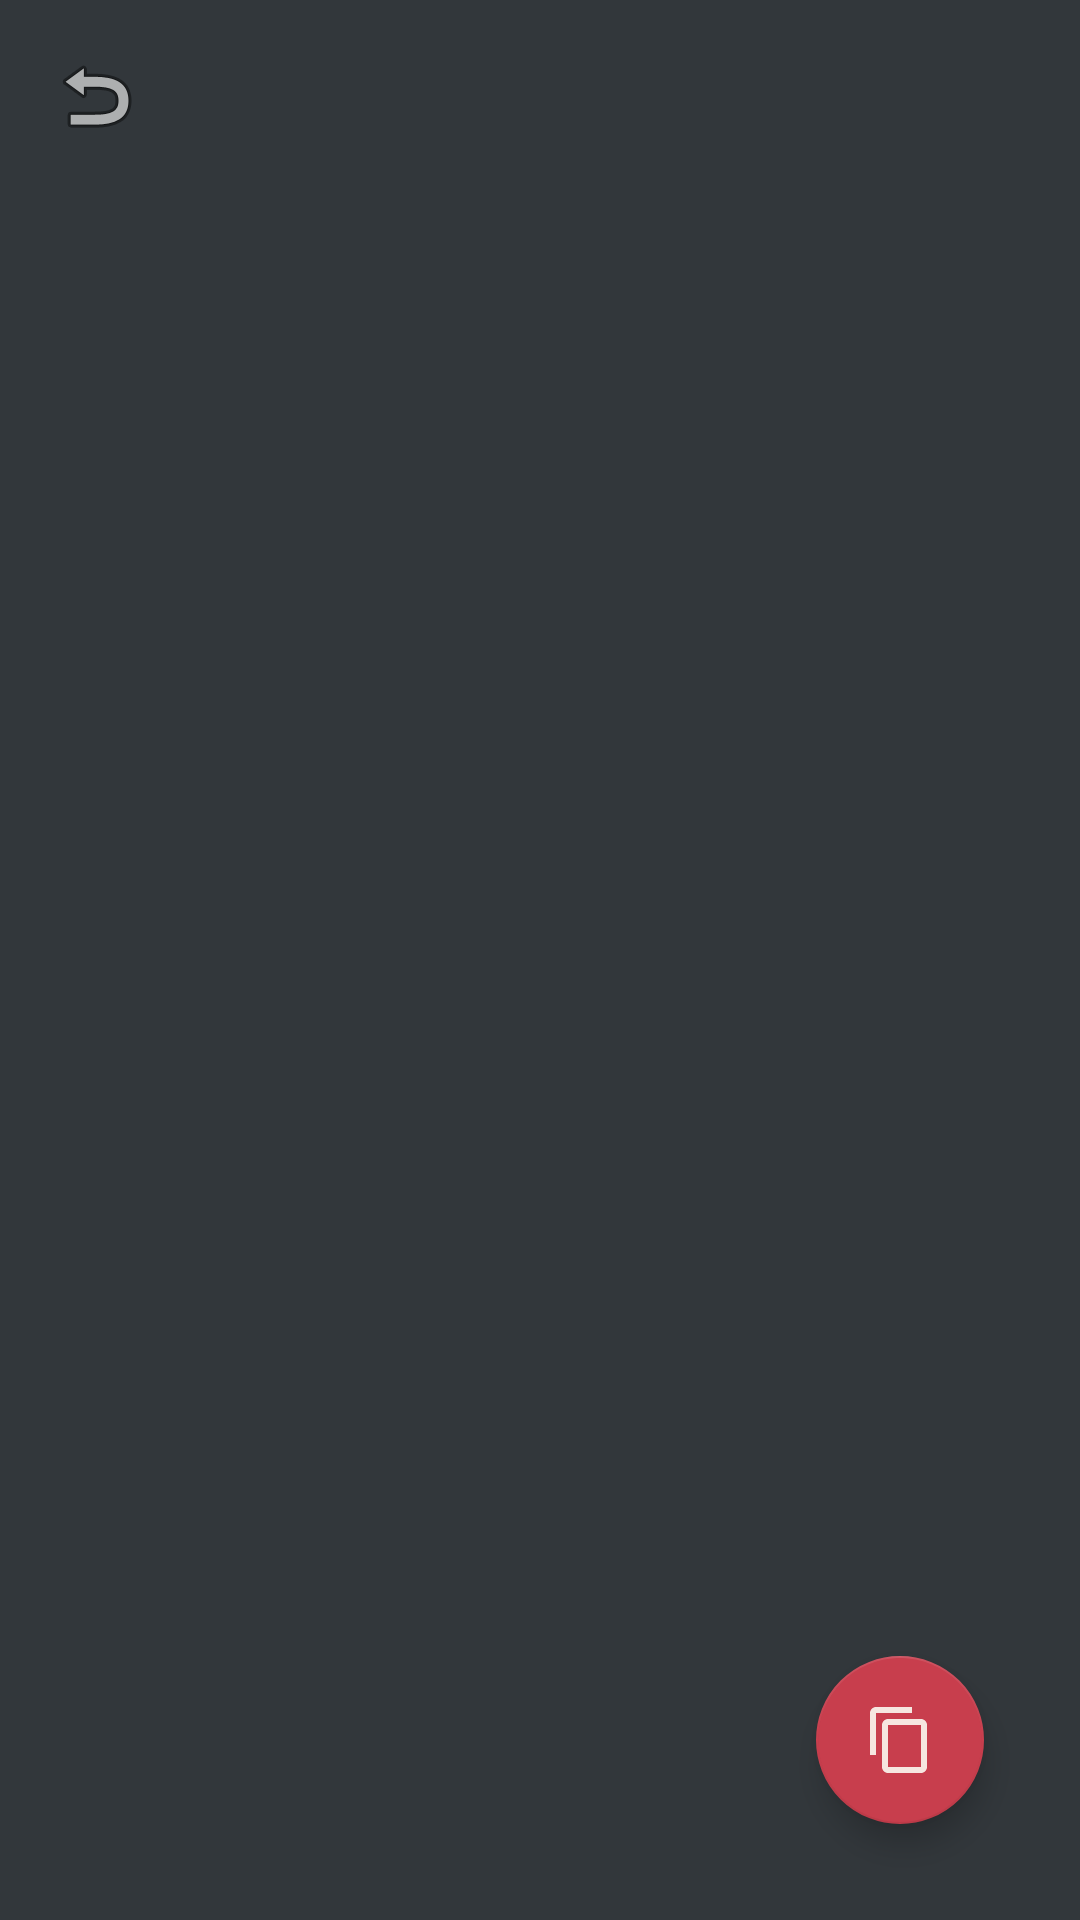

Locate icon controls on the screen. Image size 1080px x 1920px, boxes as box=[x1, y1, x2, y2].
go back: box=[64, 67, 130, 126]
